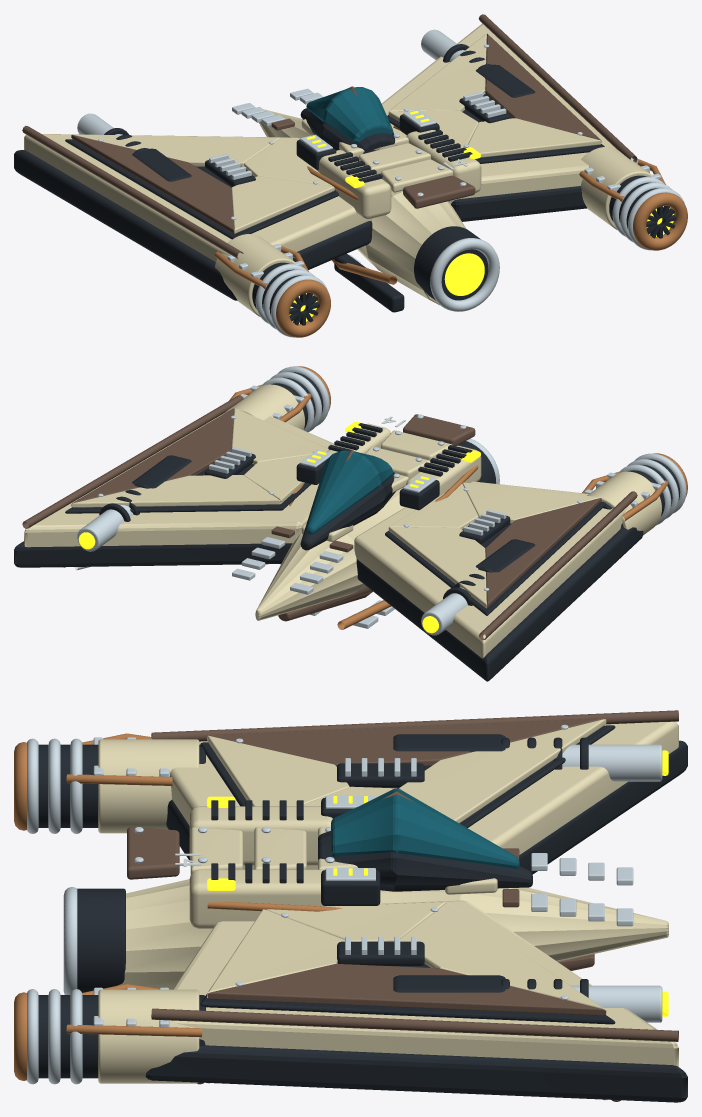
3 renders of one model, top to bottom at view 1: azimuth 30°, elevation 25°; view 2: azimuth 150°, elevation 25°; view 3: azimuth 270°, elevation 25°, orthographic. The views are drawn at different scales.
Parts seen in each view (by area): view 1: SolidHull_14; view 2: SolidHull_14; view 3: SolidHull_14.
Boxes of the visible parts, x1,y1,x2,y2 form: SolidHull_14: [14, 14, 687, 337]; SolidHull_14: [14, 366, 687, 681]; SolidHull_14: [14, 710, 687, 1102].
Bounding box in the file's own units: 3.59 × 1.15 × 3.07.
